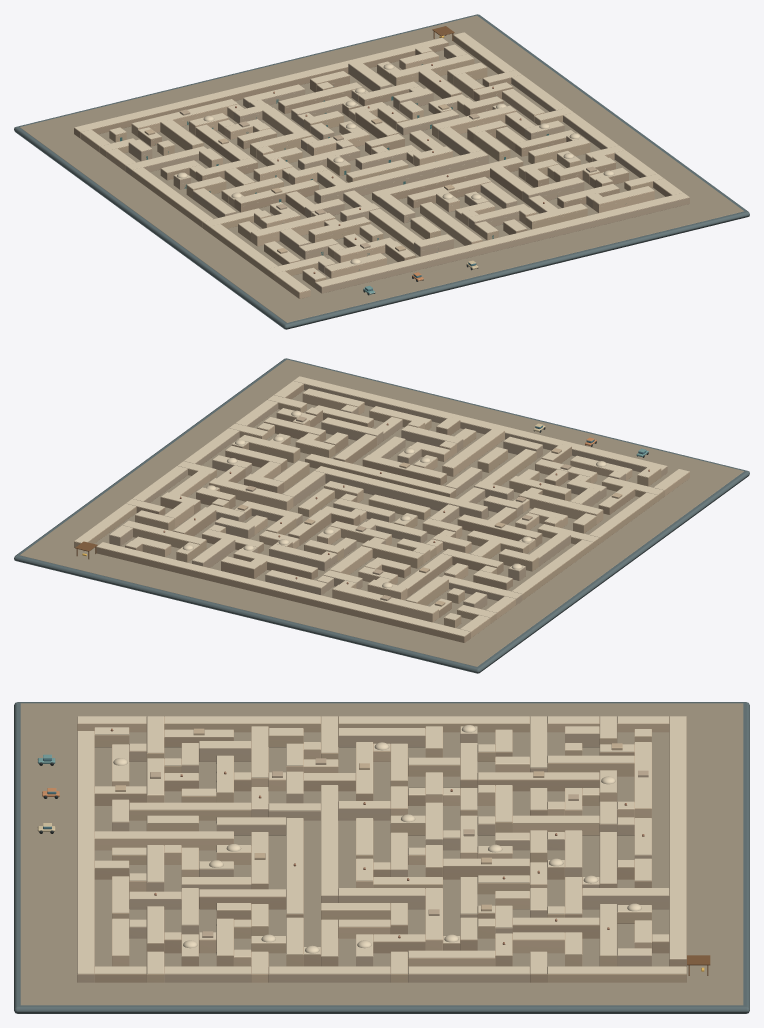
Rendered from maze-world.glb.
The picture shows the model from 3 angles, top to bottom: view 1: azimuth 30°, elevation 25°; view 2: azimuth 150°, elevation 25°; view 3: azimuth 270°, elevation 25°; orthographic projection. The views are drawn at different scales.
Parts seen in each view (by area): view 1: Details_Limestone_caps, Ground, Diorama plinth, Wall_167, Wall_000, Wall_103, Wall_112, Wall_096, Wall_166, Wall_118, Wall_006, Wall_021 (+2 smaller); view 2: Details_Limestone_caps, Ground, Diorama plinth, Wall_000, Wall_167, Wall_103, Wall_006, Wall_078, Wall_112, Wall_120, Wall_096, Wall_118 (+2 smaller); view 3: Ground, Details_Limestone_caps, Diorama plinth, Wall_134, Wall_001, Wall_045, Wall_024, Wall_095, Wall_051, Wall_105, Wall_003, Wall_125 (+23 smaller).
Part boxes in pixels (left/top/right/bottom): Details_Limestone_caps: left=74, top=32, right=689, bottom=293; Ground: left=19, top=15, right=743, bottom=322; Diorama plinth: left=14, top=14, right=749, bottom=329; Wall_167: left=315, top=197, right=689, bottom=293; Wall_000: left=74, top=42, right=448, bottom=138; Wall_103: left=314, top=155, right=488, bottom=203; Wall_112: left=372, top=162, right=523, bottom=203; Wall_096: left=234, top=184, right=318, bottom=212; Wall_166: left=592, top=191, right=654, bottom=212; Wall_118: left=251, top=217, right=335, bottom=246; Wall_006: left=131, top=104, right=237, bottom=136; Wall_021: left=390, top=59, right=474, bottom=85; Details_Limestone_caps: left=74, top=376, right=689, bottom=636; Ground: left=20, top=359, right=744, bottom=666; Diorama plinth: left=14, top=358, right=749, bottom=673; Wall_000: left=96, top=547, right=470, bottom=642; Wall_167: left=304, top=383, right=667, bottom=476; Wall_103: left=325, top=473, right=488, bottom=519; Wall_006: left=332, top=589, right=438, bottom=622; Wall_078: left=209, top=483, right=293, bottom=510; Wall_112: left=305, top=458, right=456, bottom=498; Wall_120: left=362, top=459, right=446, bottom=485; Wall_096: left=457, top=519, right=542, bottom=546; Wall_118: left=518, top=495, right=603, bottom=524; Ground: left=20, top=703, right=743, bottom=1005; Details_Limestone_caps: left=37, top=716, right=686, bottom=973; Diorama plinth: left=14, top=702, right=749, bottom=1013; Wall_134: left=94, top=832, right=233, bottom=850; Wall_001: left=547, top=967, right=686, bottom=982; Wall_045: left=338, top=717, right=529, bottom=732; Wall_024: left=477, top=773, right=599, bottom=791; Wall_095: left=268, top=967, right=390, bottom=982; Wall_051: left=408, top=967, right=529, bottom=982; Wall_105: left=164, top=717, right=320, bottom=732; Wall_003: left=582, top=889, right=669, bottom=909; Wall_125: left=129, top=803, right=251, bottom=820.
Size of the model in its own units: 167 by 6.36 by 169.
